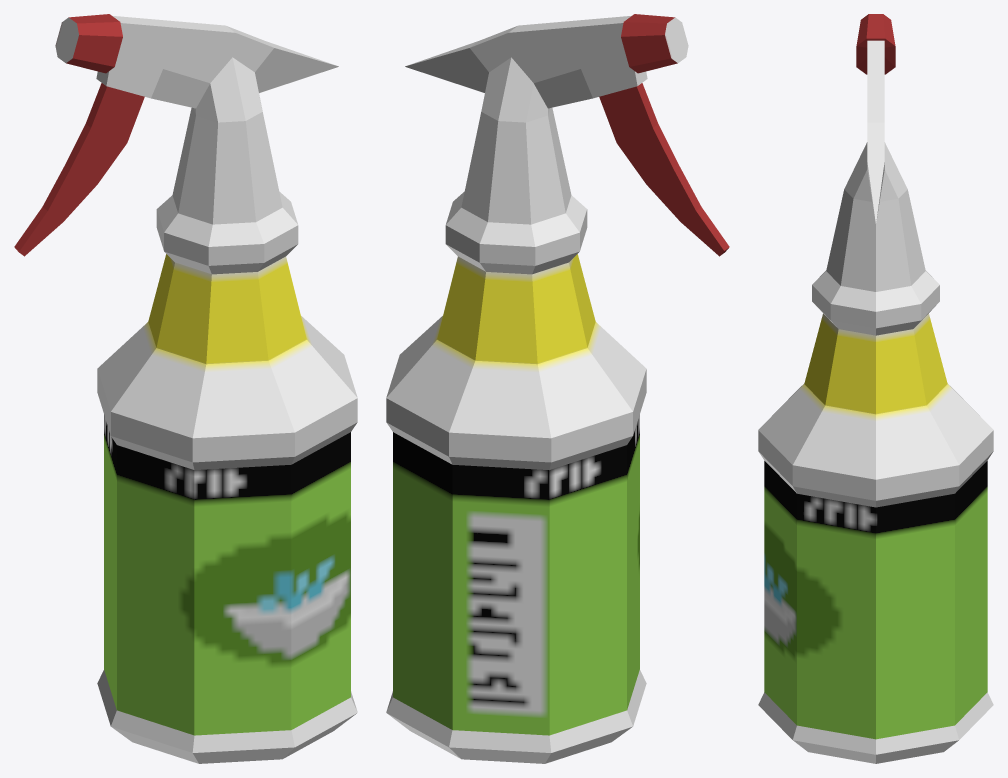
File: CleaningSolution.fbx
The picture shows the model from 3 angles, left to right: view 1: azimuth 30°, elevation 25°; view 2: azimuth 150°, elevation 25°; view 3: azimuth 270°, elevation 25°; orthographic projection. The views are drawn at different scales.
Parts seen in each view (by area): view 1: Cleaner; view 2: Cleaner; view 3: Cleaner.
Boxes of the visible parts, bbox=[...] form: Cleaner: bbox=[14, 14, 357, 763]; Cleaner: bbox=[386, 14, 729, 763]; Cleaner: bbox=[758, 14, 993, 763].
Bounding box in the file's own units: 31.62 × 67.96 × 22.56.
